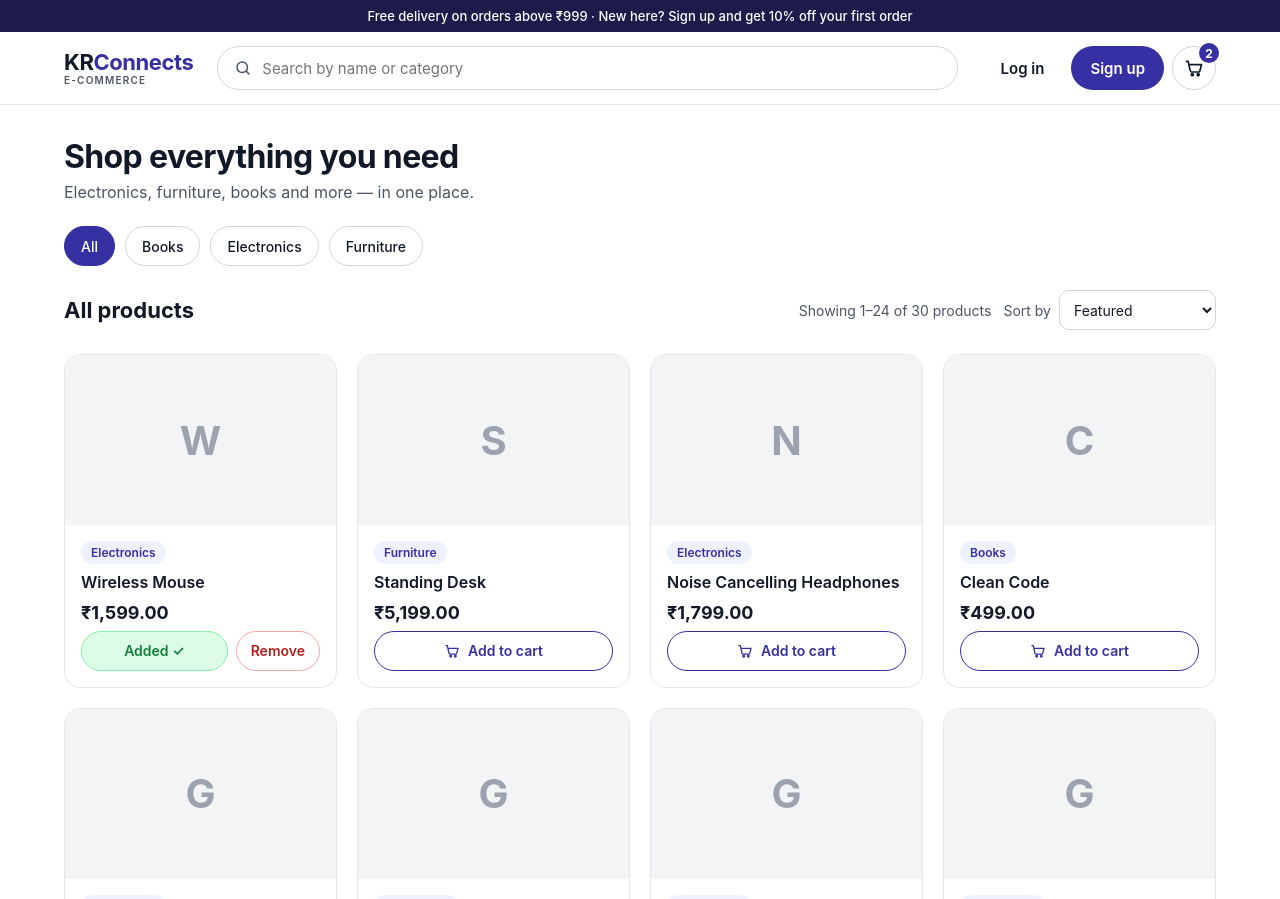
Test: CartPage › clicking the cart icon opens the cart page
Click the link named "Cart, 2 items".
click(1194, 68)  # box left=1172, top=46, right=1216, bottom=90
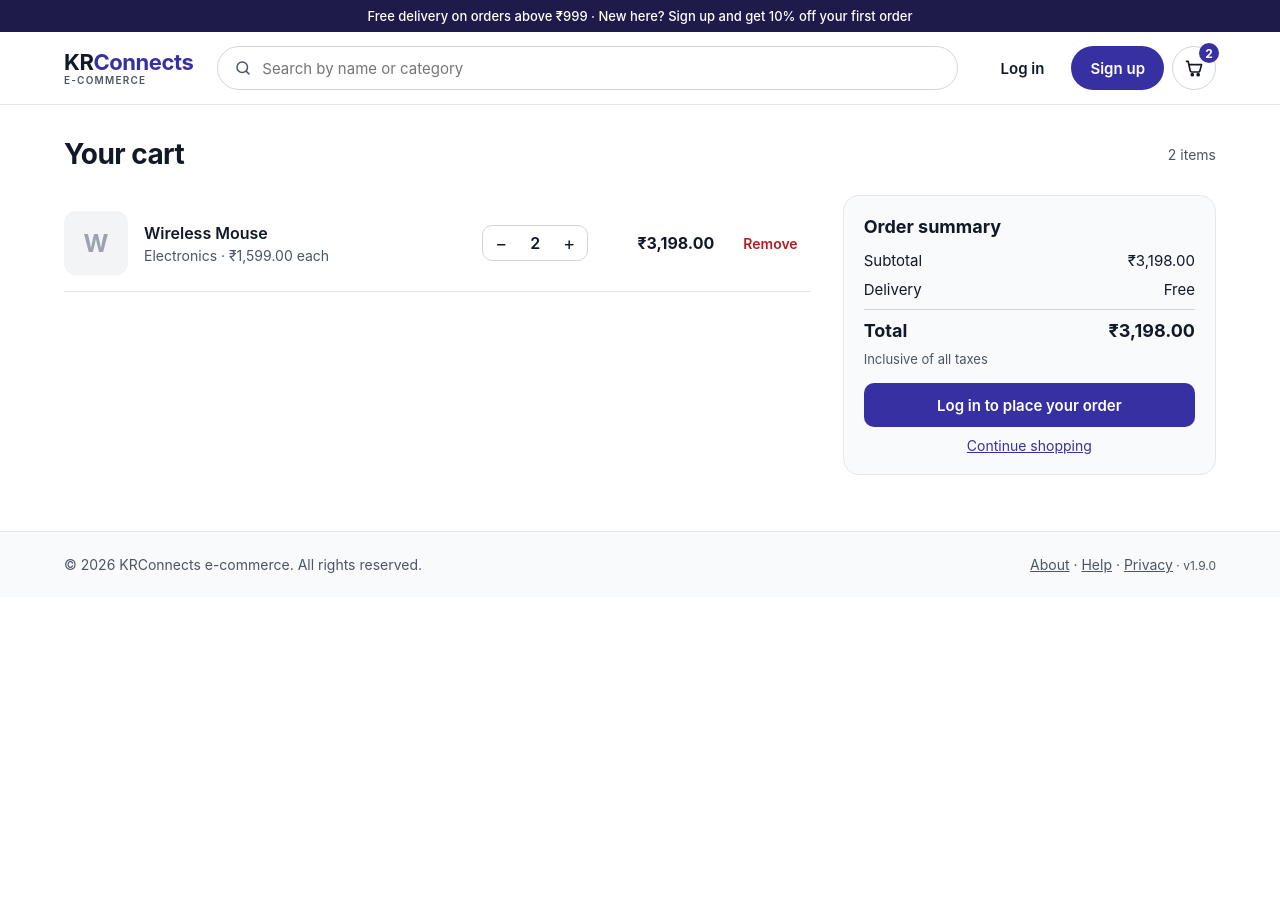
Expected: the heading "Your cart" is shown, left=64, top=137, right=184, bottom=171
